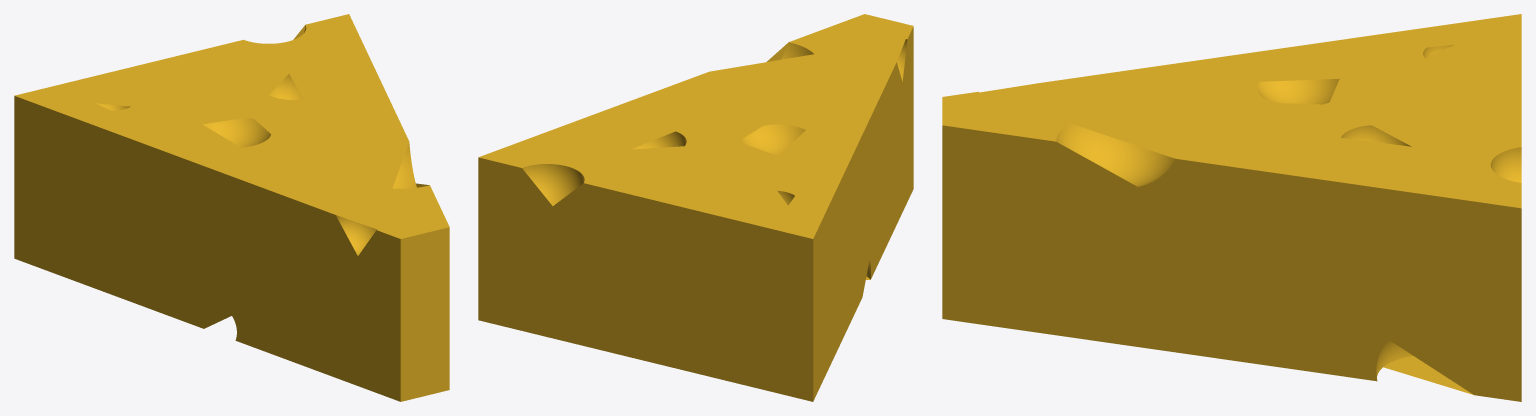
File: Cheese.fbx
3 renders of one model, left to right at view 1: azimuth 30°, elevation 25°; view 2: azimuth 150°, elevation 25°; view 3: azimuth 270°, elevation 25°, orthographic. The views are drawn at different scales.
Visible parts, largest first — view 1: Cube; view 2: Cube; view 3: Cube.
Part boxes in pixels (<box>): Cube: <box>14,14,449,401</box>; Cube: <box>478,14,913,401</box>; Cube: <box>942,14,1521,401</box>.
Bounding box in the file's own units: 430 × 200 × 542.
